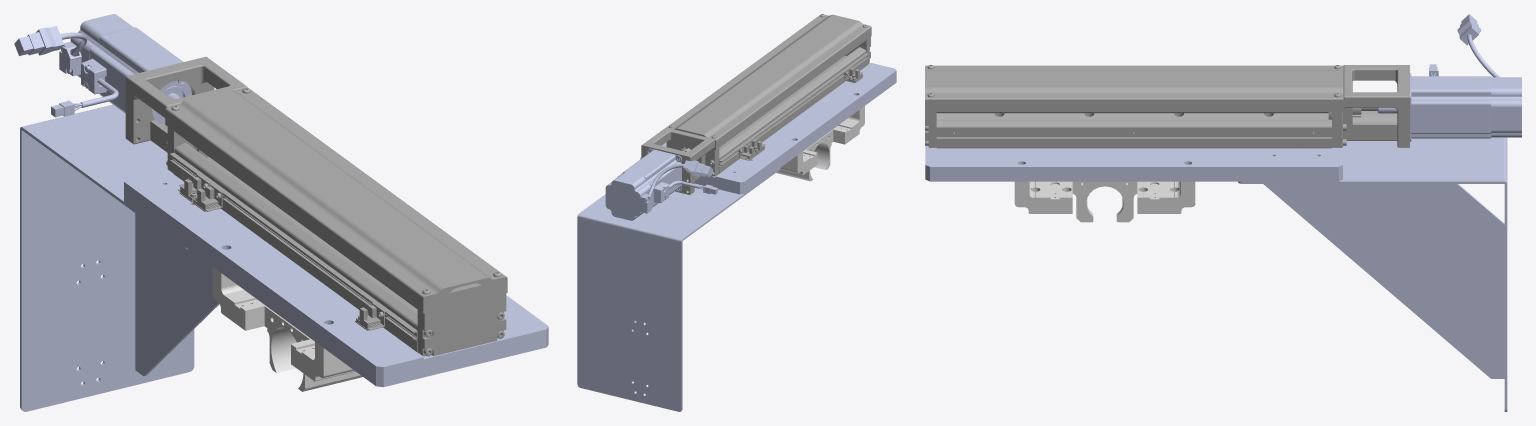
The model's file is X_Axis2.fbx.
3 renders of one model, left to right at view 1: azimuth 30°, elevation 25°; view 2: azimuth 150°, elevation 25°; view 3: azimuth 270°, elevation 25°, orthographic. The views are drawn at different scales.
Visible parts, largest first — view 1: small gantry Cnc machine.IGS-1/KK86D-F0-BP.IGS-1-solid1, object 12, small gantry Cnc machine.IGS-1/11011M084-P05.1YZ嵞窣諉啣.IGS-1-s, 1583_400W_ECMA-C20604RS.stp-1-solid1, small gantry Cnc machine.IGS-1/A-02007G-10.IGS-2-solid1, small gantry Cnc machine.IGS-1/KK80-S0.IGS-1-solid1, small gantry Cnc machine.IGS-1/KK86S2-mir.IGS-1-solid1, small gantry Cnc machine.IGS-1/KK86S2-mir.IGS-2-solid1, small gantry Cnc machine.IGS-1/KK86S2.IGS-1-solid1; view 2: object 12, small gantry Cnc machine.IGS-1/KK86D-F0-BP.IGS-1-solid1, small gantry Cnc machine.IGS-1/11011M084-P05.1YZ嵞窣諉啣.IGS-1-s, 1583_400W_ECMA-C20604RS.stp-1-solid1, small gantry Cnc machine.IGS-1/A-02007G-10.IGS-2-solid1, small gantry Cnc machine.IGS-1/KK80-S0.IGS-1-solid1; view 3: small gantry Cnc machine.IGS-1/KK86D-F0-BP.IGS-1-solid1, object 12, small gantry Cnc machine.IGS-1/11011M084-P05.1YZ嵞窣諉啣.IGS-1-s, 1583_400W_ECMA-C20604RS.stp-1-solid1, small gantry Cnc machine.IGS-1/A-02007G-10.IGS-2-solid1.
Part boxes in pixels (x1,y1,x2,y2): small gantry Cnc machine.IGS-1/KK86D-F0-BP.IGS-1-solid1: (125,56,507,356); object 12: (20,104,219,411); small gantry Cnc machine.IGS-1/11011M084-P05.1YZ嵞窣諉啣.IGS-1-s: (124,169,548,387); 1583_400W_ECMA-C20604RS.stp-1-solid1: (14,14,191,125); small gantry Cnc machine.IGS-1/A-02007G-10.IGS-2-solid1: (212,267,362,391); small gantry Cnc machine.IGS-1/KK80-S0.IGS-1-solid1: (169,152,417,339); small gantry Cnc machine.IGS-1/KK86S2-mir.IGS-1-solid1: (192,183,225,211); small gantry Cnc machine.IGS-1/KK86S2-mir.IGS-2-solid1: (355,302,387,330); small gantry Cnc machine.IGS-1/KK86S2.IGS-1-solid1: (178,174,209,202); object 12: (577,168,780,411); small gantry Cnc machine.IGS-1/KK86D-F0-BP.IGS-1-solid1: (641,14,871,194); small gantry Cnc machine.IGS-1/11011M084-P05.1YZ嵞窣諉啣.IGS-1-s: (640,63,896,194); 1583_400W_ECMA-C20604RS.stp-1-solid1: (605,148,717,220); small gantry Cnc machine.IGS-1/A-02007G-10.IGS-2-solid1: (776,106,864,181); small gantry Cnc machine.IGS-1/KK80-S0.IGS-1-solid1: (719,53,868,165); small gantry Cnc machine.IGS-1/KK86D-F0-BP.IGS-1-solid1: (925,65,1409,148); object 12: (1238,137,1507,411); small gantry Cnc machine.IGS-1/11011M084-P05.1YZ嵞窣諉啣.IGS-1-s: (925,145,1342,181); 1583_400W_ECMA-C20604RS.stp-1-solid1: (1377,14,1521,141); small gantry Cnc machine.IGS-1/A-02007G-10.IGS-2-solid1: (1014,181,1195,222).
Size of the model in its own units: 205 by 399 by 665.
